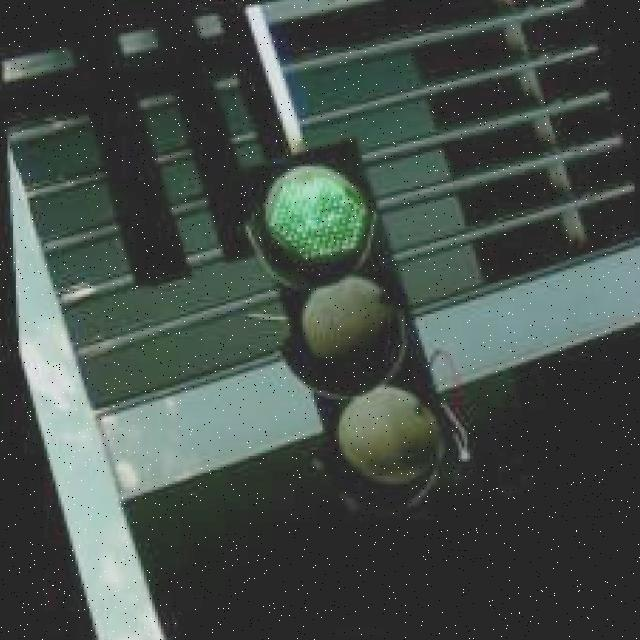Lampu Hijau: (226, 128, 464, 517)
